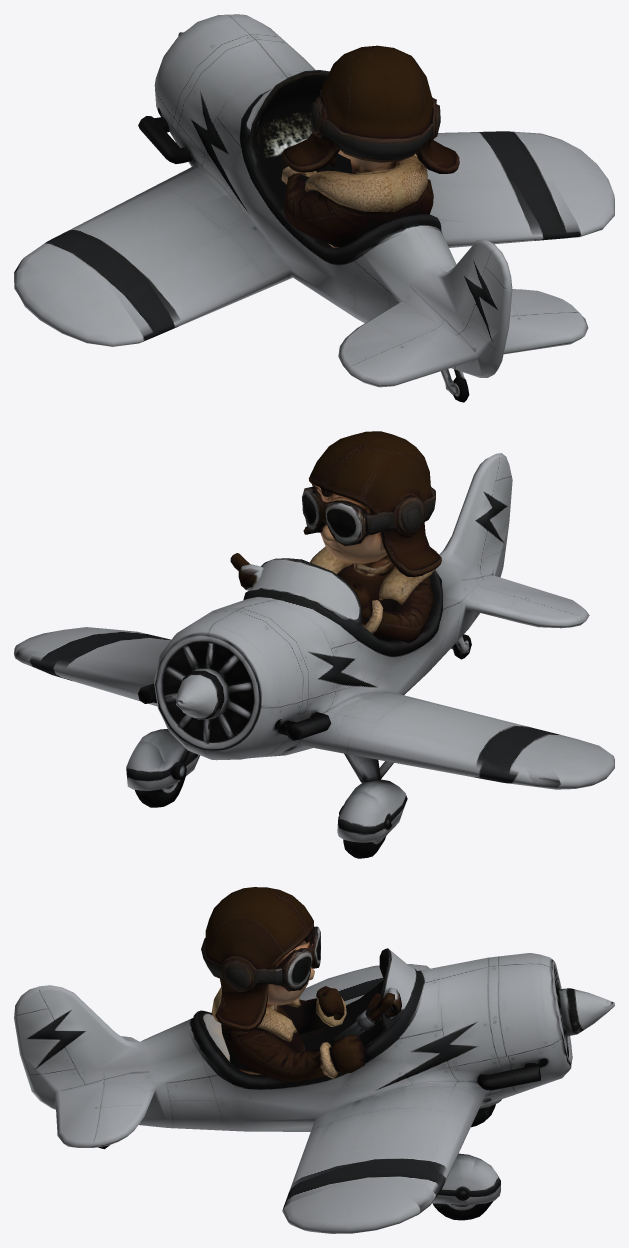
The model's file is ChatGPT_Image_7_juni_2026_14_4_Child_pilot_in_a_tiny_silver_airplane_Tripo_P1_Game_Ready_07f2e8d2.glb.
3 renders of one model, top to bottom at view 1: azimuth 30°, elevation 25°; view 2: azimuth 150°, elevation 25°; view 3: azimuth 270°, elevation 25°, orthographic. The views are drawn at different scales.
Parts seen in each view (by area): view 1: tripo_node_790350c2-4cb3-4db0-a3a6-6d60a678c5b8; view 2: tripo_node_790350c2-4cb3-4db0-a3a6-6d60a678c5b8; view 3: tripo_node_790350c2-4cb3-4db0-a3a6-6d60a678c5b8.
Boxes of the visible parts, <box> form: tripo_node_790350c2-4cb3-4db0-a3a6-6d60a678c5b8: <box>14,14,614,402</box>; tripo_node_790350c2-4cb3-4db0-a3a6-6d60a678c5b8: <box>14,431,614,858</box>; tripo_node_790350c2-4cb3-4db0-a3a6-6d60a678c5b8: <box>14,887,614,1233</box>.
Bounding box in the file's own units: 0.998 × 0.5176 × 0.998.
Materials: 1 (1 with a texture image).
